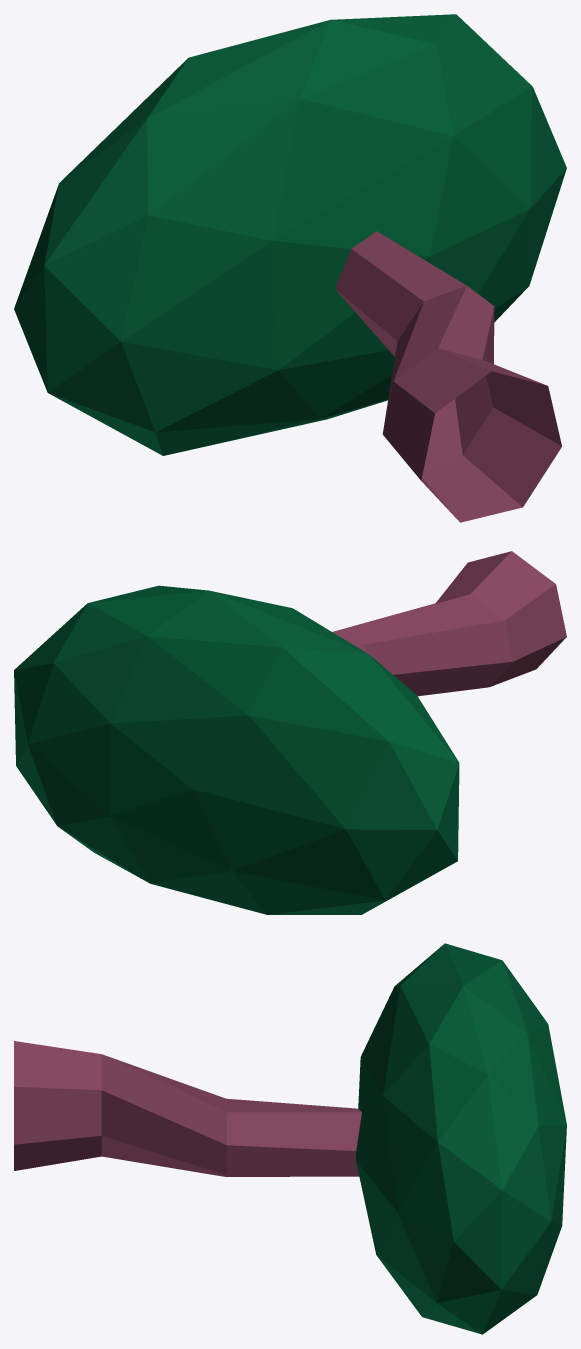
File: Tree_4.fbx
The picture shows the model from 3 angles, top to bottom: view 1: azimuth 30°, elevation 25°; view 2: azimuth 150°, elevation 25°; view 3: azimuth 270°, elevation 25°; orthographic projection. The views are drawn at different scales.
Visible parts, largest first — view 1: Tree_4.001; view 2: Tree_4.001; view 3: Tree_4.001.
Boxes of the visible parts, left/top/right/bottom form: Tree_4.001: left=14, top=14, right=566, bottom=522; Tree_4.001: left=14, top=551, right=566, bottom=914; Tree_4.001: left=14, top=943, right=566, bottom=1334.
Size of the model in its own units: 3.2 by 2.27 by 3.5.
